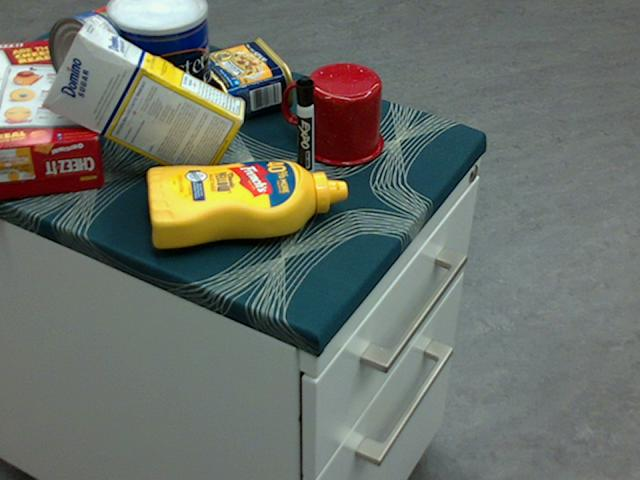cracker_box: (0, 40, 104, 198)
gelatin_box: (53, 6, 146, 66)
large_marker: (294, 75, 314, 183)
master_chef_can: (107, 0, 211, 145)
mug: (282, 62, 382, 166)
mustard_bottle: (146, 159, 347, 248)
potted_meat_can: (192, 37, 293, 122)
sugar_box: (43, 21, 246, 182)
tomato_soup_can: (105, 4, 196, 92)
tuna_fish_can: (48, 11, 130, 100)
